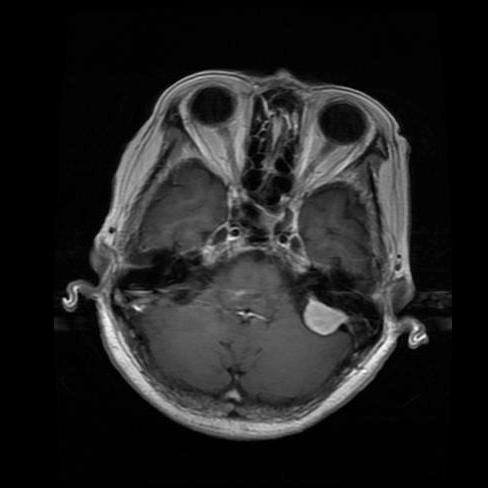Tumour-Meningioma: (277, 296, 362, 354)
